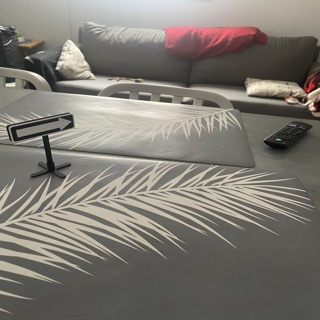sign_oneway_right: (9, 112, 70, 142)
